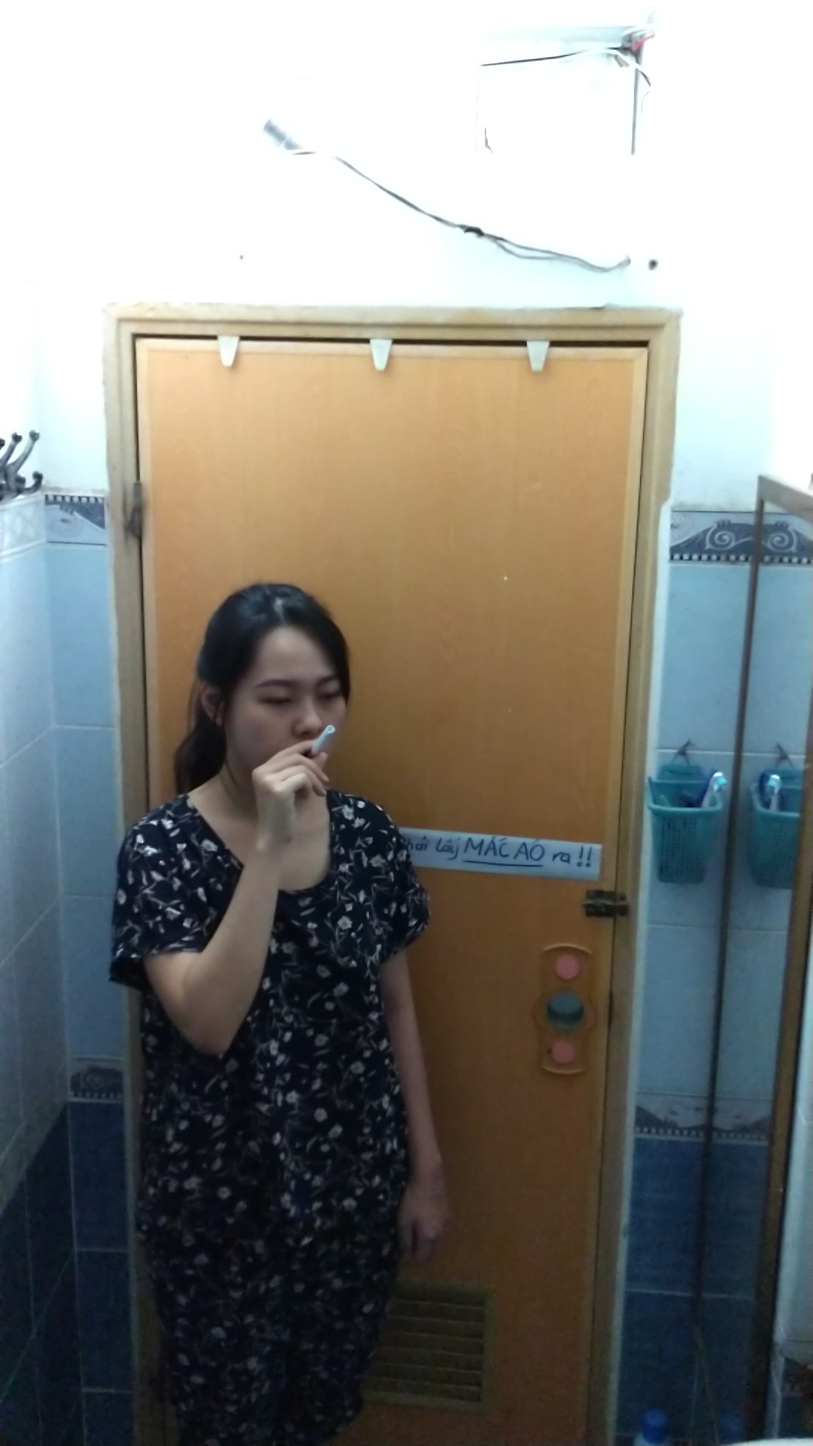cigarette: (308, 721, 340, 760)
person: (108, 571, 458, 1442)
